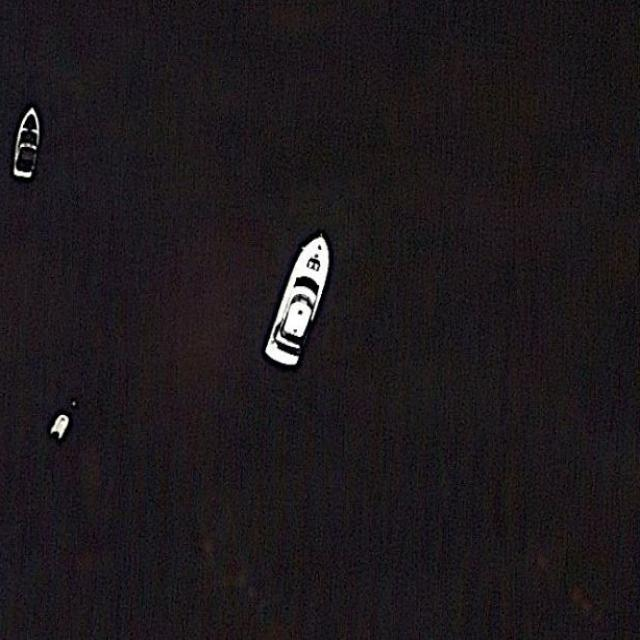ship: (264, 236, 332, 366), (14, 105, 44, 179), (51, 412, 72, 439)
